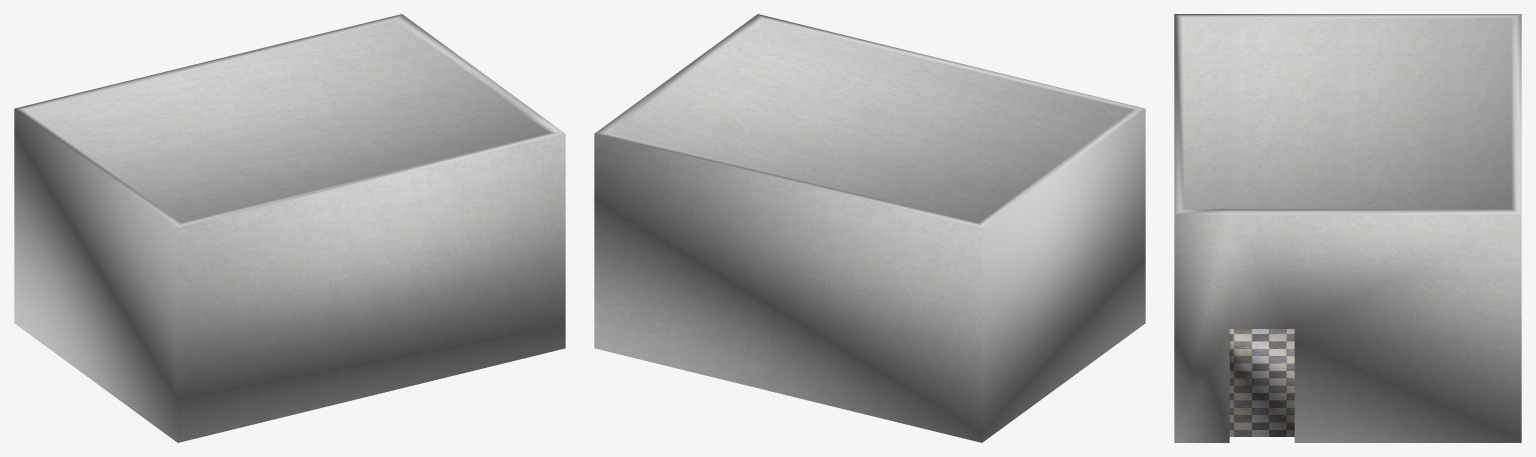
File: Room.fbx
3 renders of one model, left to right at view 1: azimuth 30°, elevation 25°; view 2: azimuth 150°, elevation 25°; view 3: azimuth 270°, elevation 25°, orthographic. The views are drawn at different scales.
Visible parts, largest first — view 1: Cube; view 2: Cube; view 3: Cube.
Boxes of the visible parts, x1,y1,x2,y2 form: Cube: (14,14,565,442); Cube: (594,14,1145,442); Cube: (1174,14,1521,442).
Size of the model in its own units: 3.78 by 2 by 2.76.
